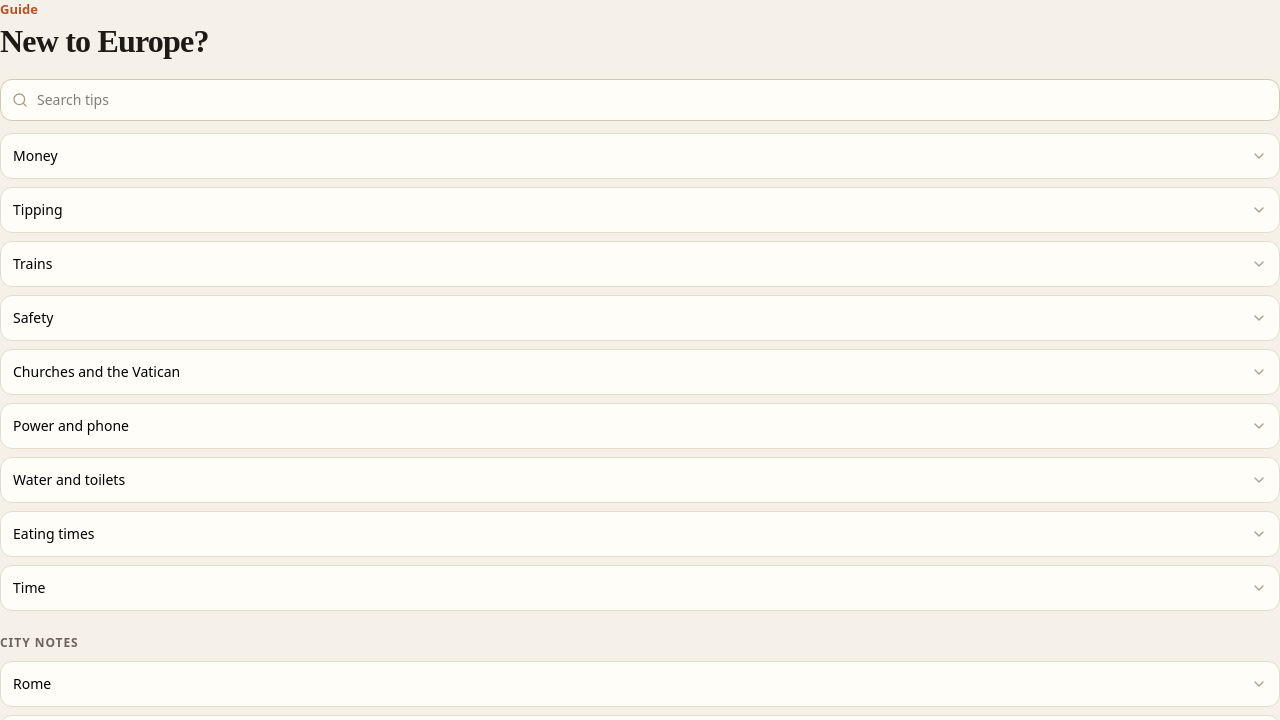
Test: search › narrows the general tips and hides the rest
Expected: the text "Trains" is shown, [13,254,52,273]
Expected: the text "Tipping" is shown, [13,200,62,219]
Step 1. Type "binario" into the search field labelled "Search tips" → (640, 100), box [0,79,1279,121]
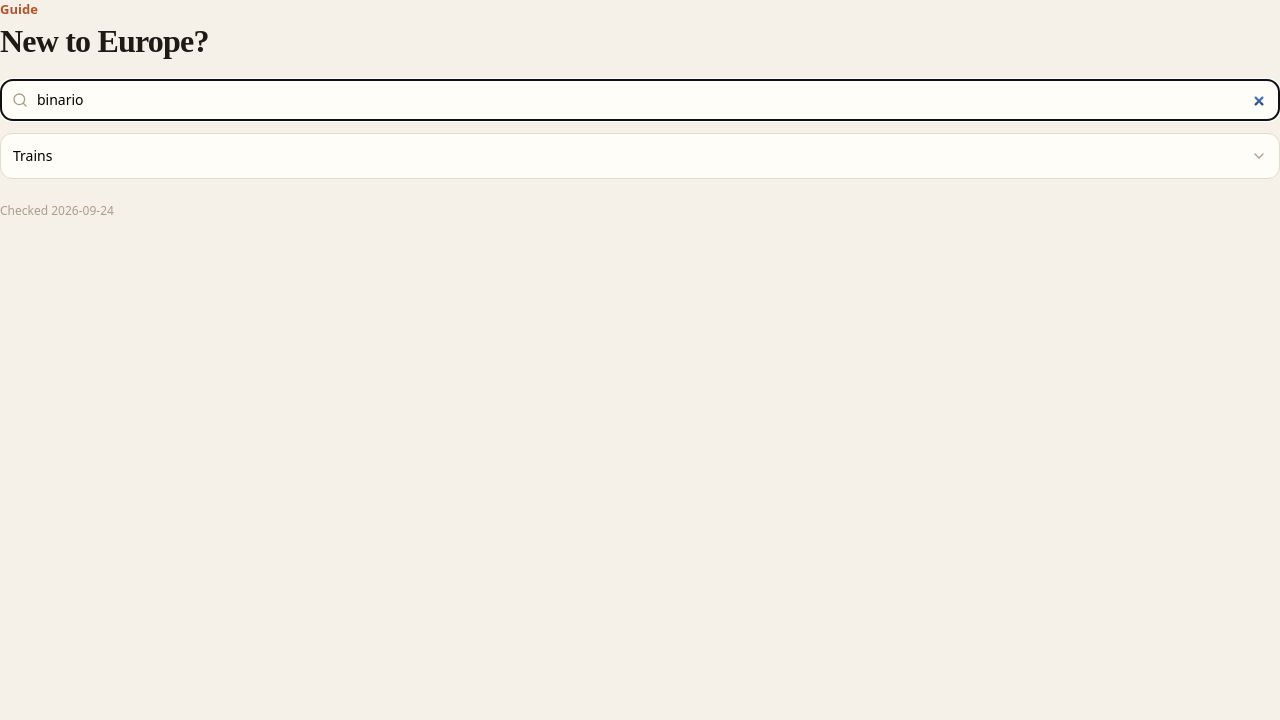
Expected: the text "Trains" is shown, [13,146,52,165]
Expected: the heading "Tipping" is gone
